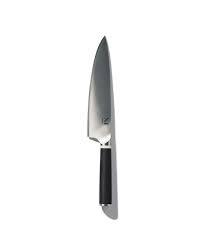Knife: (86, 34, 118, 219)
